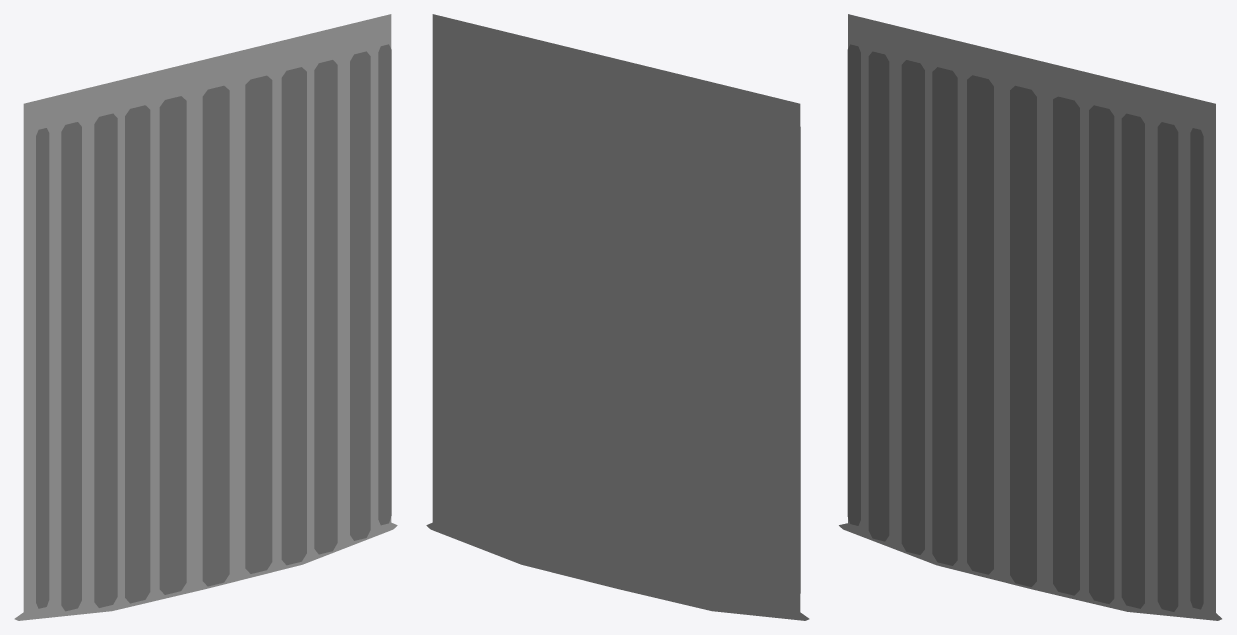
Rendered from trashcan.FBX.
3 renders of one model, left to right at view 1: azimuth 30°, elevation 25°; view 2: azimuth 150°, elevation 25°; view 3: azimuth 330°, elevation 25°, orthographic.
Visible parts, largest first — view 1: trashcan; view 2: trashcan; view 3: trashcan.
Part boxes in pixels (x1=…): trashcan: x1=14, y1=14, x2=397, y2=620; trashcan: x1=426, y1=14, x2=809, y2=620; trashcan: x1=839, y1=14, x2=1221, y2=620.
Bounding box in the file's own units: 67.43 × 88.94 × 2.6.
Materials: 1 (1 with a texture image).
